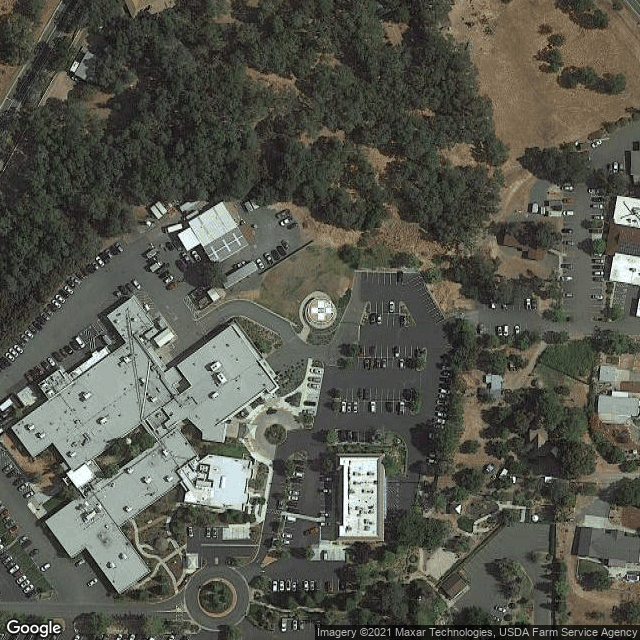Helipad: (303, 293, 339, 329)
